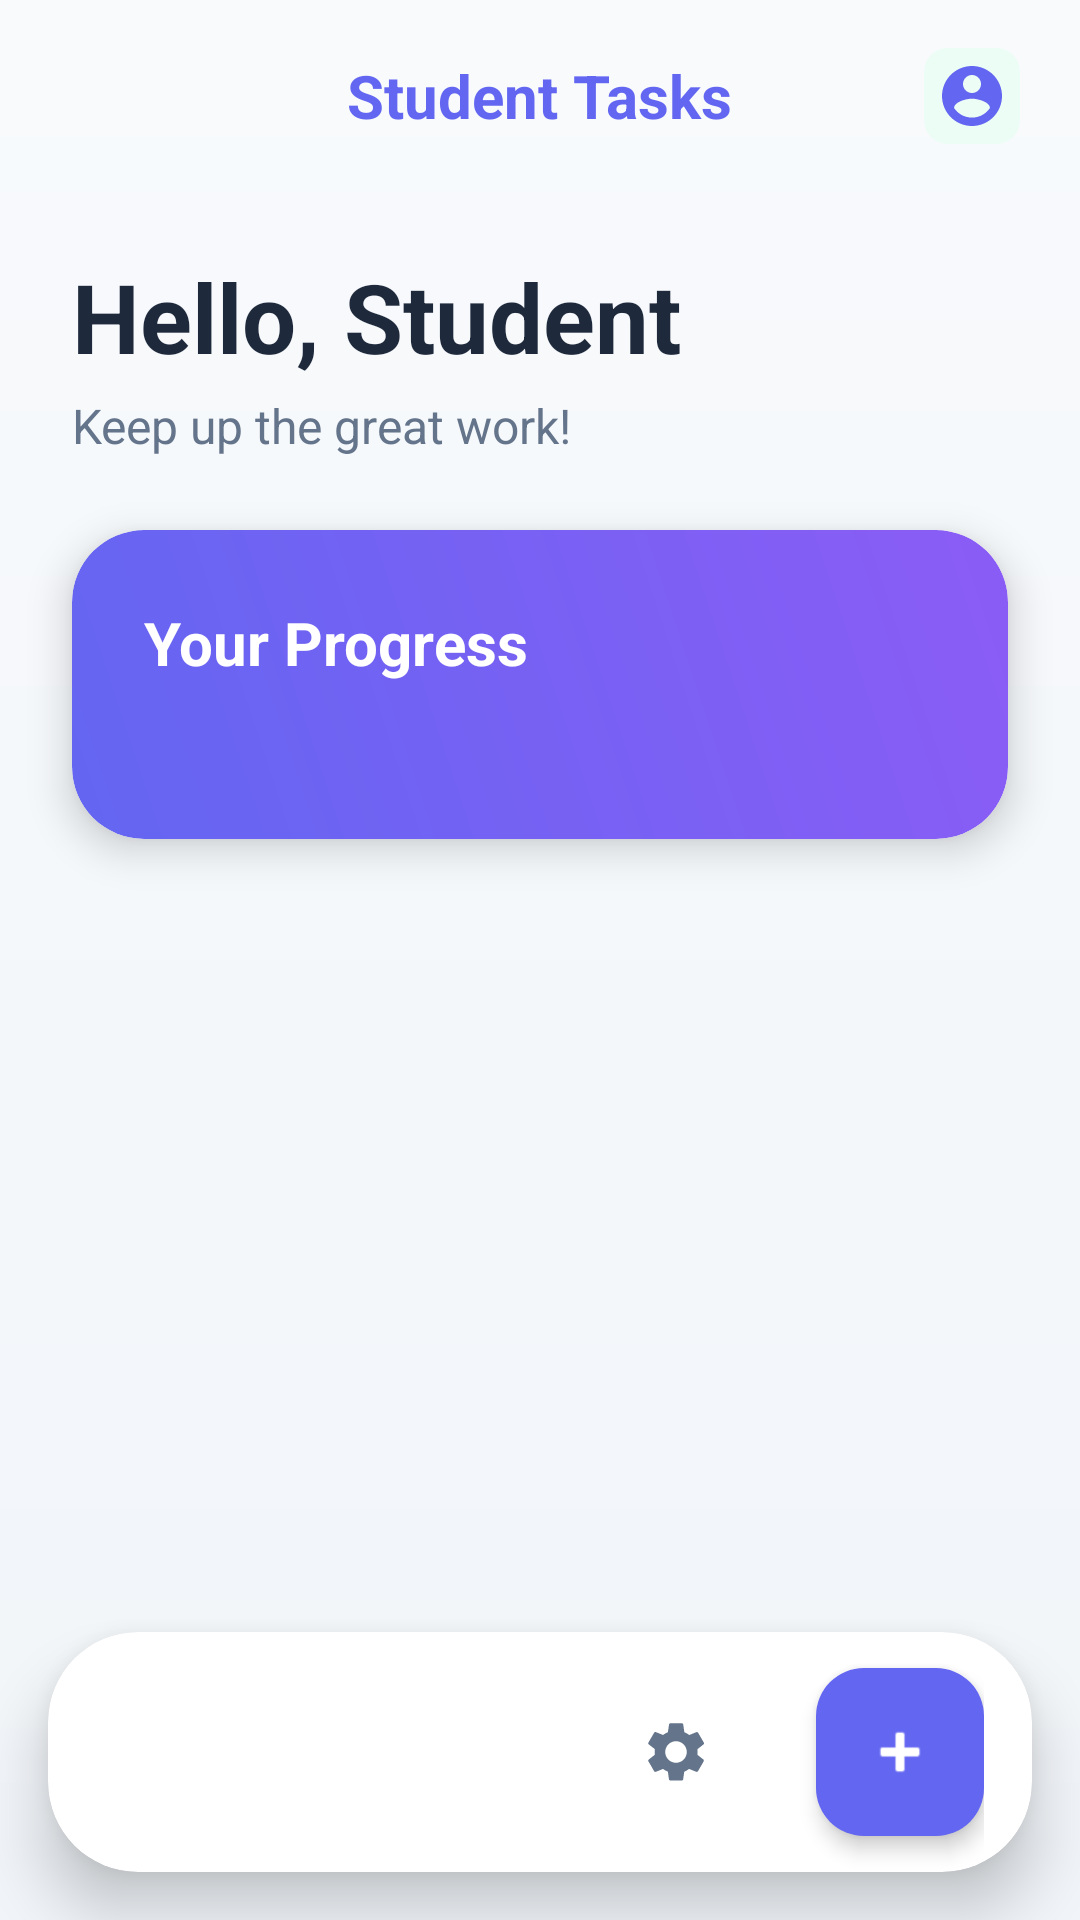

Icons on this 1080w x 1920h Android screen, each with the point to tap as [x,y]:
account: [972,96]
add: [900,1752]
settings: [676,1752]
